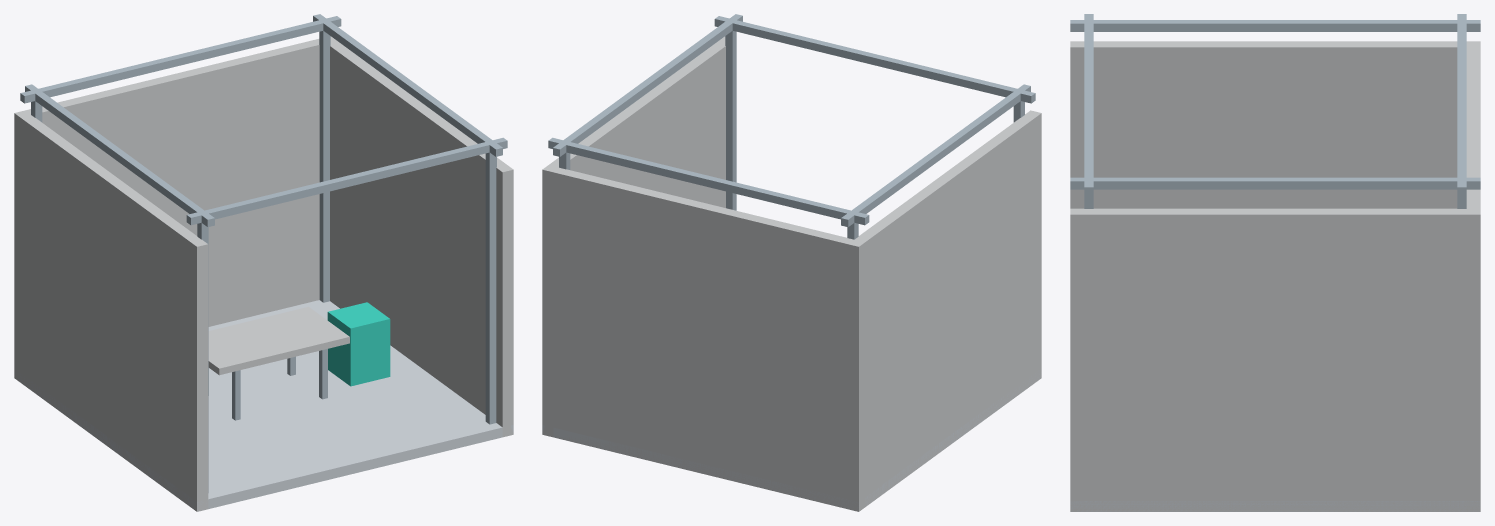
3 views of the same model, side by side, from view 1: azimuth 30°, elevation 25°; view 2: azimuth 150°, elevation 25°; view 3: azimuth 270°, elevation 25° (orthographic). The views are drawn at different scales.
Visible parts, largest first — view 1: Exhibition Booth Concept; view 2: Exhibition Booth Concept; view 3: Exhibition Booth Concept.
Part boxes in pixels (x1,y1,x2,y2): Exhibition Booth Concept: (14,14,513,511); Exhibition Booth Concept: (542,14,1041,511); Exhibition Booth Concept: (1070,14,1480,511).
Size of the model in its own units: 4 by 3.49 by 4.
